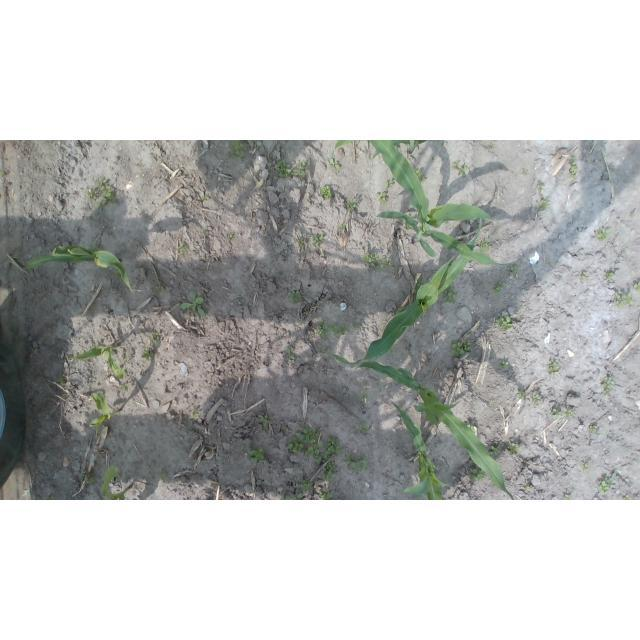Maize: (324, 213, 484, 373), (355, 362, 513, 500), (370, 141, 514, 268), (390, 401, 448, 500), (22, 244, 134, 295), (59, 347, 127, 382), (333, 140, 427, 158), (89, 390, 120, 435), (101, 465, 131, 500)
Weeds: (285, 427, 323, 465), (86, 176, 118, 212), (322, 436, 342, 480), (179, 290, 205, 316), (363, 253, 393, 270), (346, 452, 368, 472), (440, 283, 458, 305), (599, 473, 616, 496), (292, 161, 310, 181), (229, 140, 246, 161), (614, 292, 635, 308), (451, 339, 471, 355), (275, 160, 292, 178), (402, 215, 420, 231), (495, 314, 513, 330), (247, 447, 265, 463), (601, 376, 615, 396), (568, 156, 579, 180), (316, 319, 329, 338), (470, 467, 486, 482), (81, 470, 96, 485), (596, 228, 614, 240), (344, 199, 358, 214), (330, 325, 349, 336), (177, 243, 190, 258), (536, 198, 551, 211), (320, 185, 333, 200), (281, 492, 304, 500), (299, 478, 312, 492), (319, 488, 334, 500), (288, 290, 303, 302), (142, 348, 155, 361), (508, 442, 521, 455), (149, 331, 161, 345), (492, 282, 506, 294), (548, 360, 560, 374), (260, 415, 272, 428), (311, 234, 323, 247), (415, 168, 426, 182), (581, 457, 592, 471), (329, 155, 340, 169), (479, 238, 491, 250), (488, 444, 500, 456), (536, 180, 547, 193), (588, 425, 601, 436), (458, 165, 468, 179), (157, 469, 168, 481), (376, 192, 387, 204), (296, 236, 307, 248), (532, 392, 542, 405), (286, 347, 296, 360), (551, 409, 562, 420), (508, 264, 518, 276), (415, 279, 425, 290), (359, 423, 370, 433), (384, 178, 393, 190), (466, 422, 475, 434), (517, 389, 526, 400), (188, 411, 200, 419), (276, 271, 289, 278), (566, 408, 575, 418), (499, 360, 509, 369), (153, 284, 164, 292), (395, 306, 406, 314), (58, 376, 66, 386), (119, 384, 129, 392), (521, 166, 528, 177), (360, 394, 369, 402), (450, 161, 458, 170), (487, 140, 495, 149), (633, 281, 640, 291), (337, 223, 347, 230), (582, 272, 590, 280), (241, 444, 250, 451), (563, 494, 573, 500), (622, 496, 634, 501), (607, 272, 614, 280), (622, 248, 629, 255), (122, 357, 130, 363), (201, 194, 209, 200), (0, 168, 6, 176), (317, 349, 325, 354), (546, 261, 553, 266), (228, 234, 233, 241), (353, 324, 360, 329), (202, 228, 207, 234), (525, 486, 531, 491), (46, 497, 55, 500), (468, 454, 473, 459), (264, 486, 269, 491), (363, 388, 369, 392), (394, 144, 398, 149), (268, 172, 272, 176), (306, 198, 310, 202), (411, 437, 414, 442), (247, 140, 250, 142)
